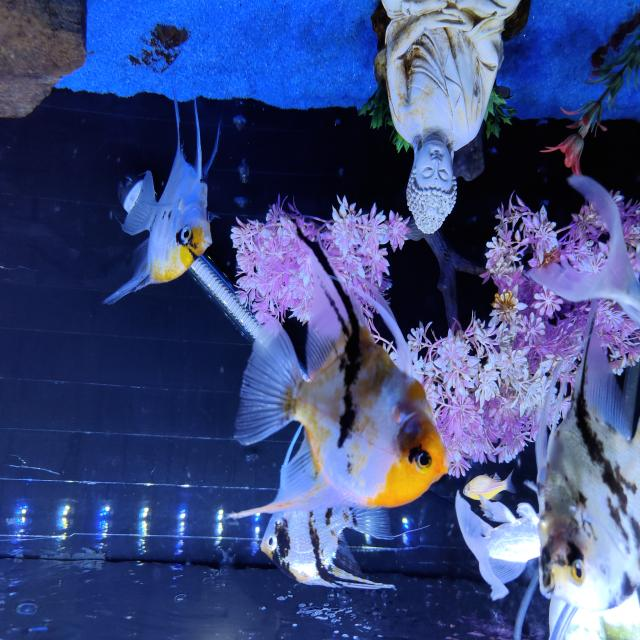Fish: (233, 228, 447, 516), (536, 300, 639, 609), (104, 76, 219, 303), (530, 175, 639, 324), (261, 506, 394, 587), (456, 491, 540, 599), (550, 594, 639, 639), (463, 471, 515, 499)
